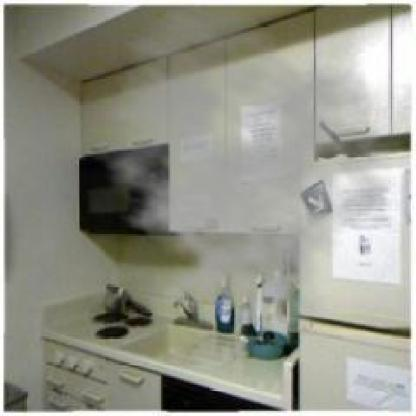Smoke: (73, 3, 409, 338)
